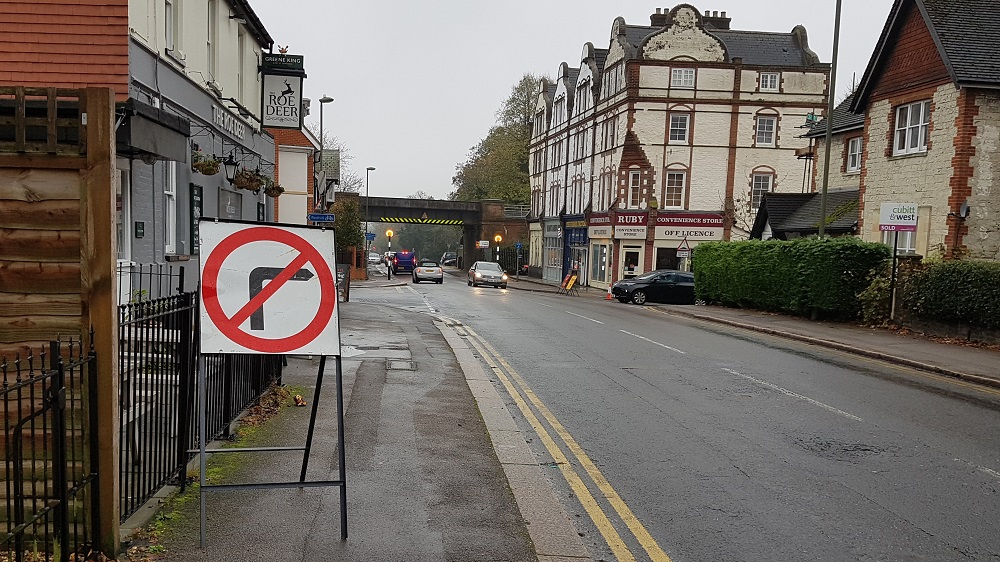No_right_turn: (201, 228, 336, 354)
